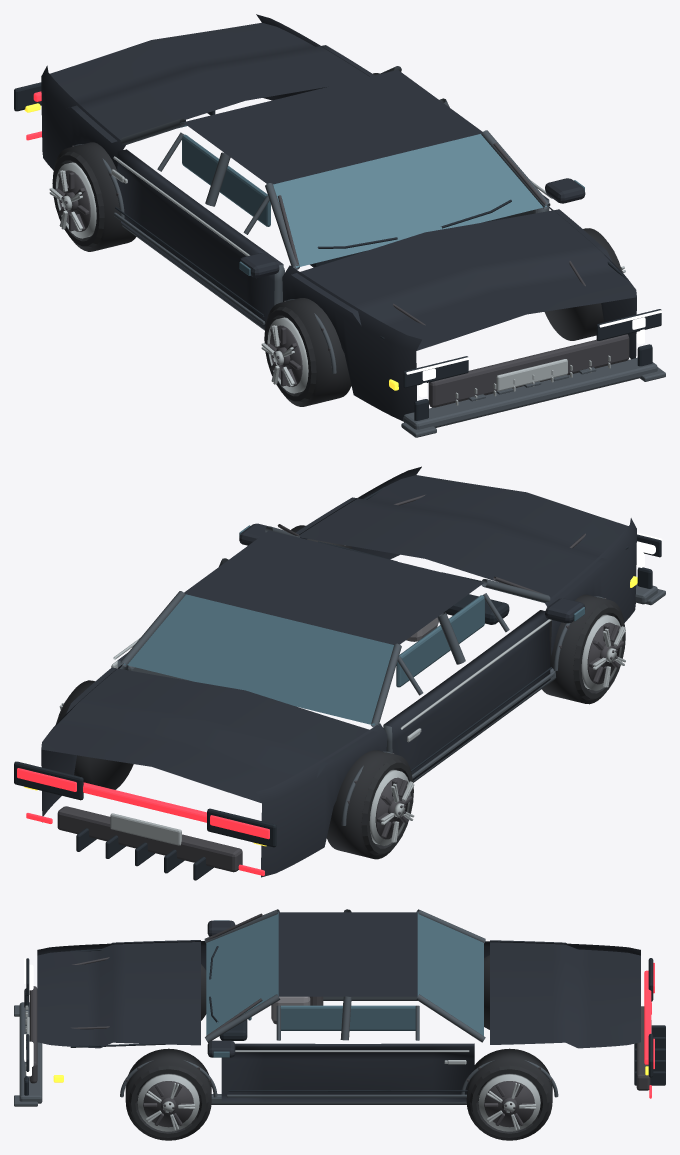
Rendered from exotic_supercar__revulse.glb.
3 views of the same model, one above another, from view 1: azimuth 30°, elevation 25°; view 2: azimuth 150°, elevation 25°; view 3: azimuth 270°, elevation 25° (orthographic). The views are drawn at different scales.
Visible parts, largest first — view 1: Gently curved bonnet rear deck, Sloped proper front windshield, Painted manufactured roof panel, FIXED metal fenders NO DOOR SHELL OVERLAY, DOOR_LEFT_FRONT_SCULPTED_SKIN, Lower front lip splitter, Sculpted front intake / closed EV grille, Michelin-style unbranded tire rubber, DOOR_LEFT_FRONT_MOVING_GLASS, Michelin-style unbranded tire rubber.001, Michelin-style unbranded tire rubber.002, FIXED metal fenders NO DOOR SHELL OVERLAY.001 (+13 smaller); view 2: Gently curved bonnet rear deck, Rear windshield, Painted manufactured roof panel, FIXED metal fenders NO DOOR SHELL OVERLAY, DOOR_LEFT_FRONT_SCULPTED_SKIN, Rear black diffuser, Michelin-style unbranded tire rubber.001, DOOR_LEFT_FRONT_MOVING_GLASS, Michelin-style unbranded tire rubber, FIXED metal fenders NO DOOR SHELL OVERLAY.001, Michelin-style unbranded tire rubber.003, TIRE_ROUNDED_SHOULDER.001 (+18 smaller); view 3: Gently curved bonnet rear deck, DOOR_RIGHT_FRONT_SCULPTED_SKIN, Painted manufactured roof panel, Sloped proper front windshield, Rear windshield, DOOR_RIGHT_FRONT_MOVING_GLASS, Michelin-style unbranded tire rubber.002, Michelin-style unbranded tire rubber.003, TIRE_ROUNDED_SHOULDER.003, TIRE_ROUNDED_SHOULDER.002, FIXED metal fenders NO DOOR SHELL OVERLAY, Lower front lip splitter (+20 smaller).
Part boxes in pixels (x1,y1,x2,y2): Gently curved bonnet rear deck: (50,22,636,350); Sloped proper front windshield: (273,134,546,267); Painted manufactured roof panel: (183,70,482,184); FIXED metal fenders NO DOOR SHELL OVERLAY: (41,65,421,421); DOOR_LEFT_FRONT_SCULPTED_SKIN: (117,149,283,327); Lower front lip splitter: (403,357,657,429); Sculpted front intake / closed EV grille: (428,334,629,407); Michelin-style unbranded tire rubber: (266,298,351,406); DOOR_LEFT_FRONT_MOVING_GLASS: (182,134,270,226); Michelin-style unbranded tire rubber.001: (54,142,136,251); Michelin-style unbranded tire rubber.002: (544,228,620,340); FIXED metal fenders NO DOOR SHELL OVERLAY.001: (256,14,636,359); Gently curved bonnet rear deck: (41,475,628,802); Rear windshield: (124,594,393,725); Painted manufactured roof panel: (184,530,483,644); FIXED metal fenders NO DOOR SHELL OVERLAY: (256,518,636,877); DOOR_LEFT_FRONT_SCULPTED_SKIN: (383,610,550,780); Rear black diffuser: (57,806,242,872); Michelin-style unbranded tire rubber.001: (326,750,412,859); DOOR_LEFT_FRONT_MOVING_GLASS: (396,595,484,687); Michelin-style unbranded tire rubber: (542,594,623,704); FIXED metal fenders NO DOOR SHELL OVERLAY.001: (41,466,421,822); Michelin-style unbranded tire rubber.003: (57,680,133,789); TIRE_ROUNDED_SHOULDER.001: (361,759,413,855); Gently curved bonnet rear deck: (37,940,640,1048); DOOR_RIGHT_FRONT_SCULPTED_SKIN: (221,1043,474,1101); Painted manufactured roof panel: (278,912,417,996); Sloped proper front windshield: (206,912,278,1035); Rear windshield: (417,912,483,1035); DOOR_RIGHT_FRONT_MOVING_GLASS: (280,1005,415,1030); Michelin-style unbranded tire rubber.002: (125,1048,211,1140); Michelin-style unbranded tire rubber.003: (466,1048,552,1140); TIRE_ROUNDED_SHOULDER.003: (469,1065,549,1137); TIRE_ROUNDED_SHOULDER.002: (128,1065,208,1137); FIXED metal fenders NO DOOR SHELL OVERLAY: (37,941,640,969); Lower front lip splitter: (19,1002,42,1103).
Size of the model in its own units: 2.5 by 1.12 by 5.16.
